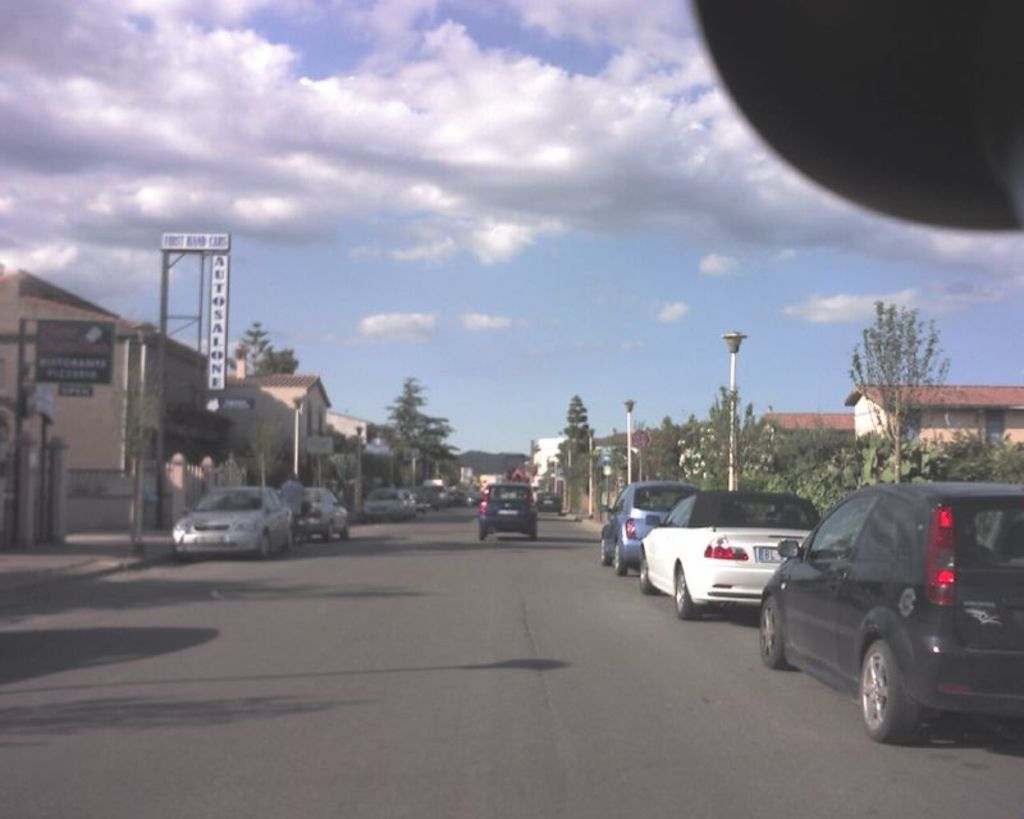Car: (0, 0, 1022, 817), (759, 478, 1022, 742), (636, 477, 823, 616), (166, 478, 291, 561), (600, 474, 700, 574), (481, 477, 537, 537), (300, 485, 354, 540), (358, 485, 417, 515), (363, 490, 400, 518), (418, 478, 450, 509), (535, 491, 560, 511), (407, 493, 419, 515)
